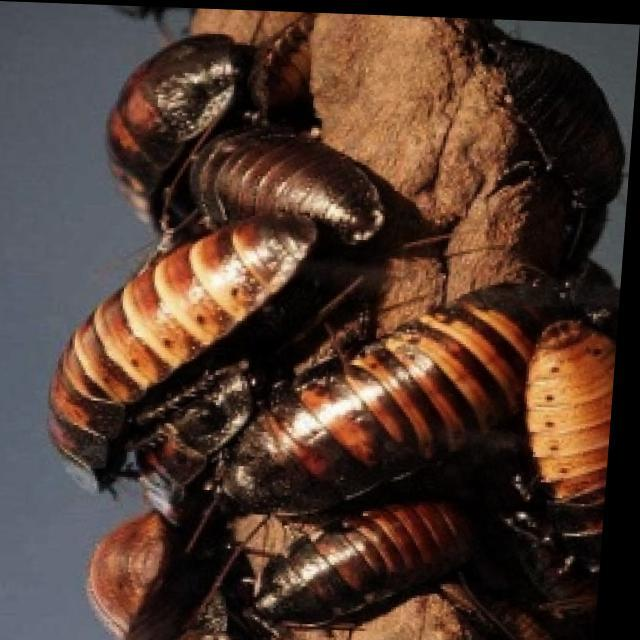cockroach: (25, 182, 359, 492), (202, 262, 555, 541), (227, 488, 485, 640), (103, 16, 282, 228), (505, 298, 640, 542), (180, 128, 380, 251), (67, 481, 209, 640)
